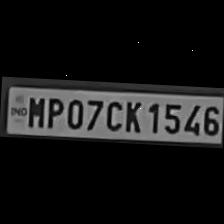0: (63, 95, 85, 129)
1: (142, 99, 160, 134)
4: (181, 100, 201, 134)
5: (159, 100, 181, 134)
6: (200, 102, 220, 136)
7: (82, 95, 102, 131)
C: (102, 96, 124, 132)
K: (120, 97, 144, 133)
M: (24, 93, 44, 127)
P: (43, 94, 63, 128)
